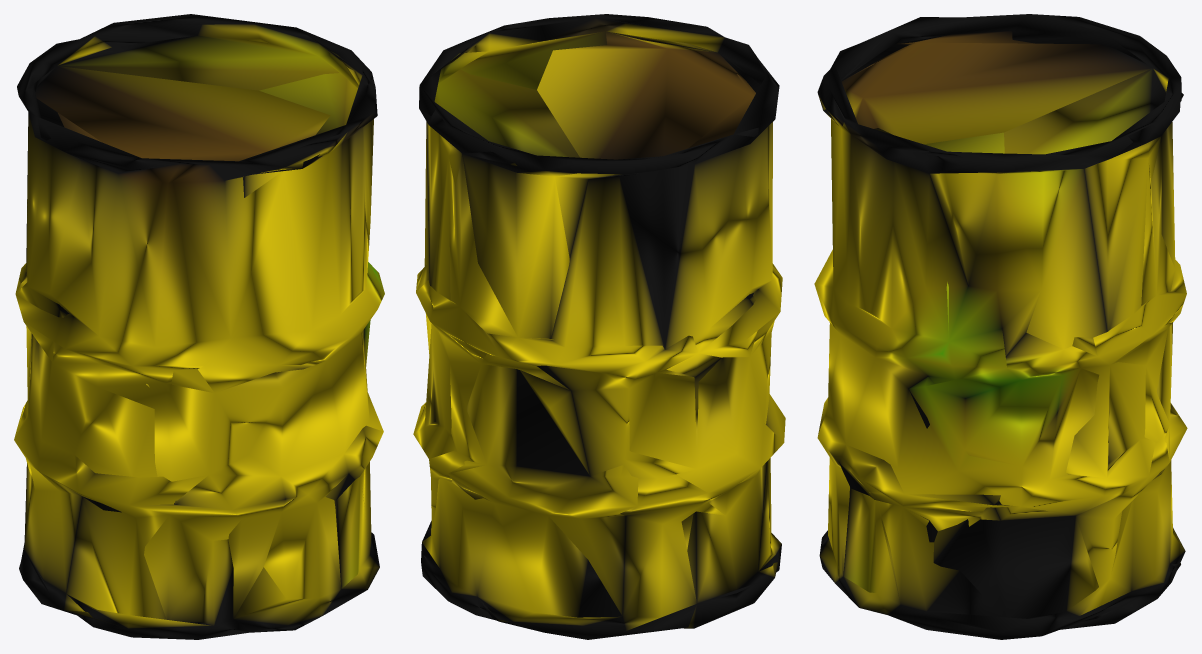
The model's file is gen3d-toxic-barrel-lod1.glb.
3 views of the same model, side by side, from view 1: azimuth 30°, elevation 25°; view 2: azimuth 150°, elevation 25°; view 3: azimuth 270°, elevation 25° (orthographic).
Parts seen in each view (by area): view 1: part_0; view 2: part_0; view 3: part_0.
Part boxes in pixels (left/top/right/bottom): part_0: left=14, top=14, right=384, bottom=639; part_0: left=413, top=14, right=785, bottom=639; part_0: left=814, top=14, right=1187, bottom=639.
Bounding box in the file's own units: 0.7013 × 1 × 0.7038.
